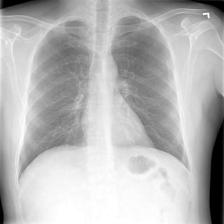normal: (11, 13, 197, 189)
